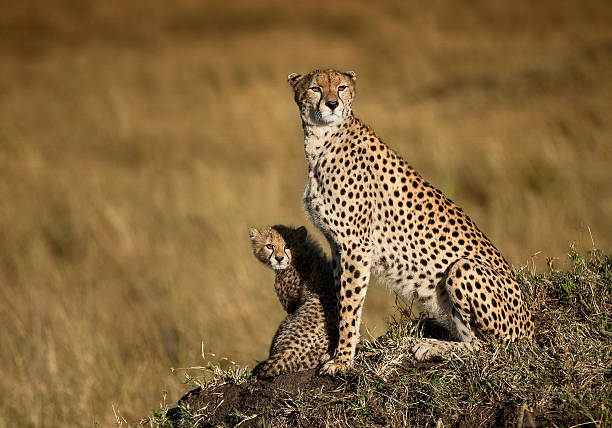cheetah: (281, 63, 364, 140)
